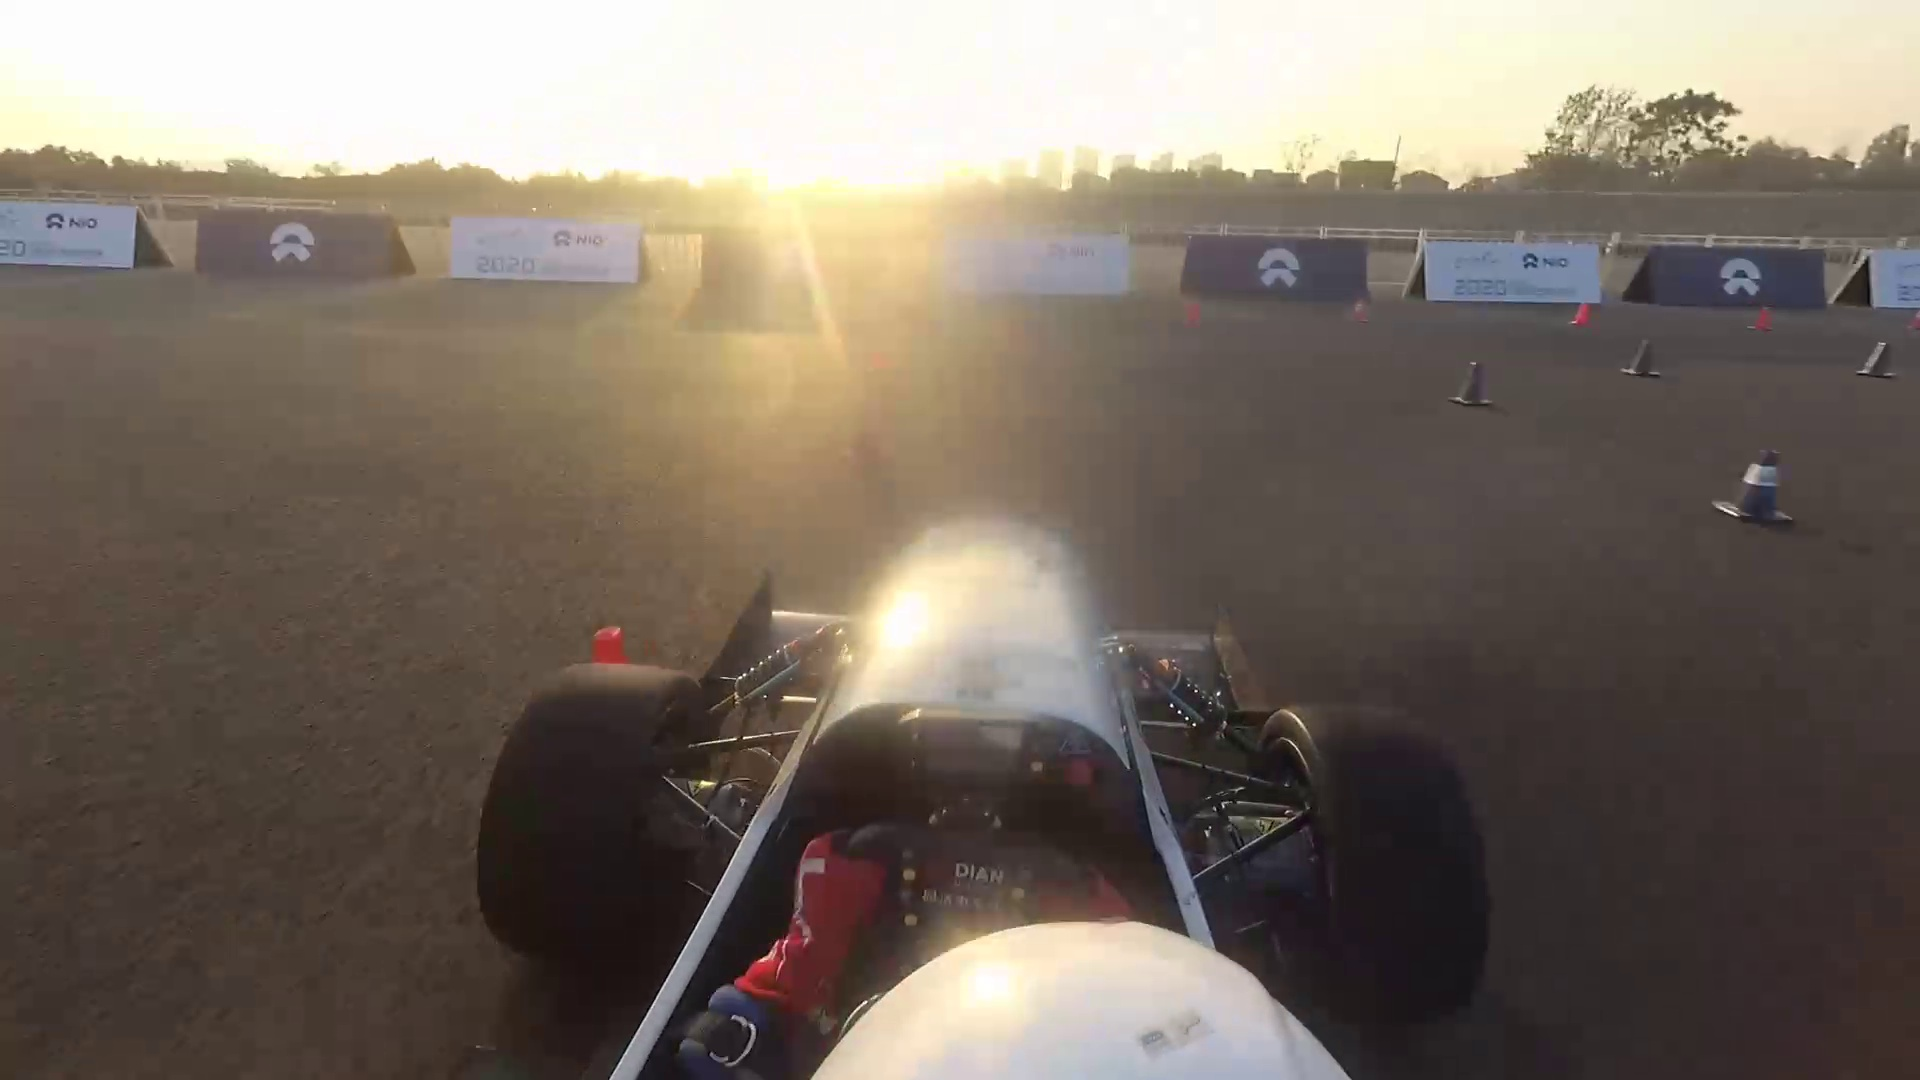blue_cone: (1727, 438, 1792, 551), (1444, 349, 1501, 411), (1855, 340, 1902, 397), (1629, 334, 1673, 388)
red_cone: (1565, 295, 1602, 332), (1747, 305, 1783, 334)
